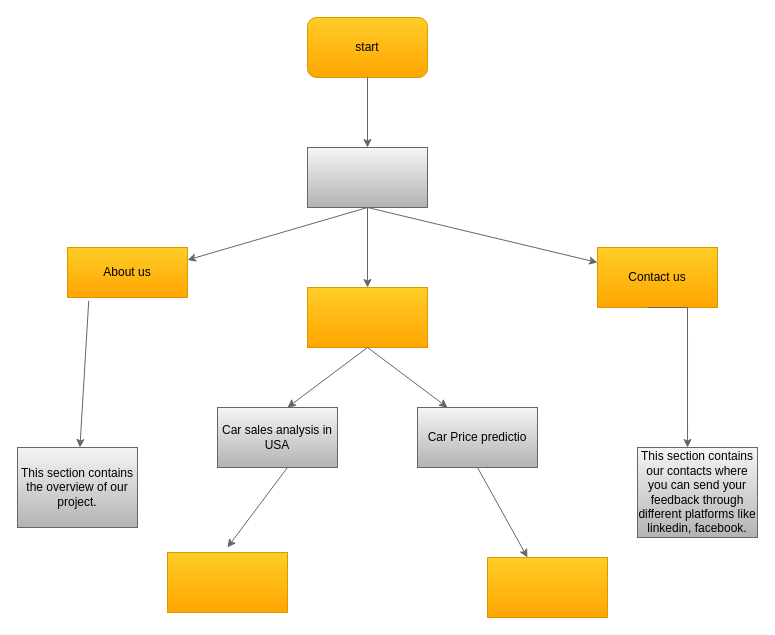
This 775x635 diagram has some shape labels left out. The shapes that lost their labels are listed below. From the top down, each one's centre as x and y in pixels, then its label:
At (x=367, y=177): "Homepage".
At (x=367, y=317): "Service Section".
At (x=227, y=582): "Get the complete analysis and trends of automotive industry in the US.".
At (x=547, y=587): "Enter into this section to get the used car price prediction.".
